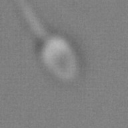normal: (13, 1, 52, 38)
